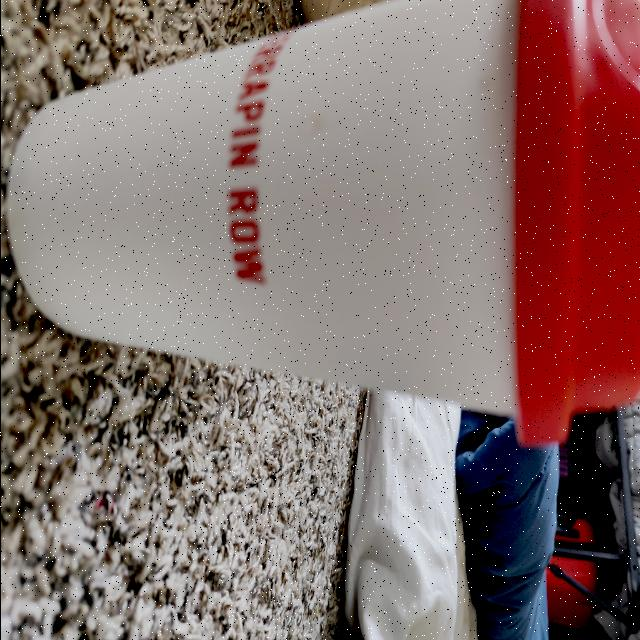mug: (8, 0, 640, 458)
